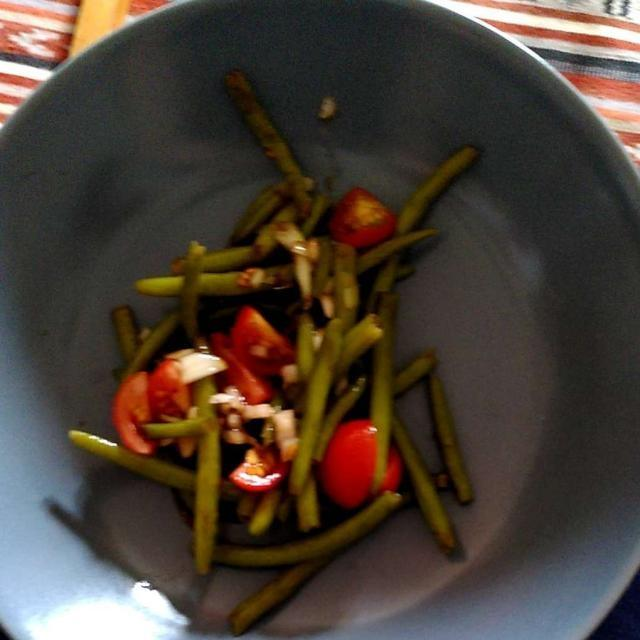green-bean: (104, 84, 465, 600)
onion: (172, 336, 302, 470)
tomato: (108, 198, 414, 494)
